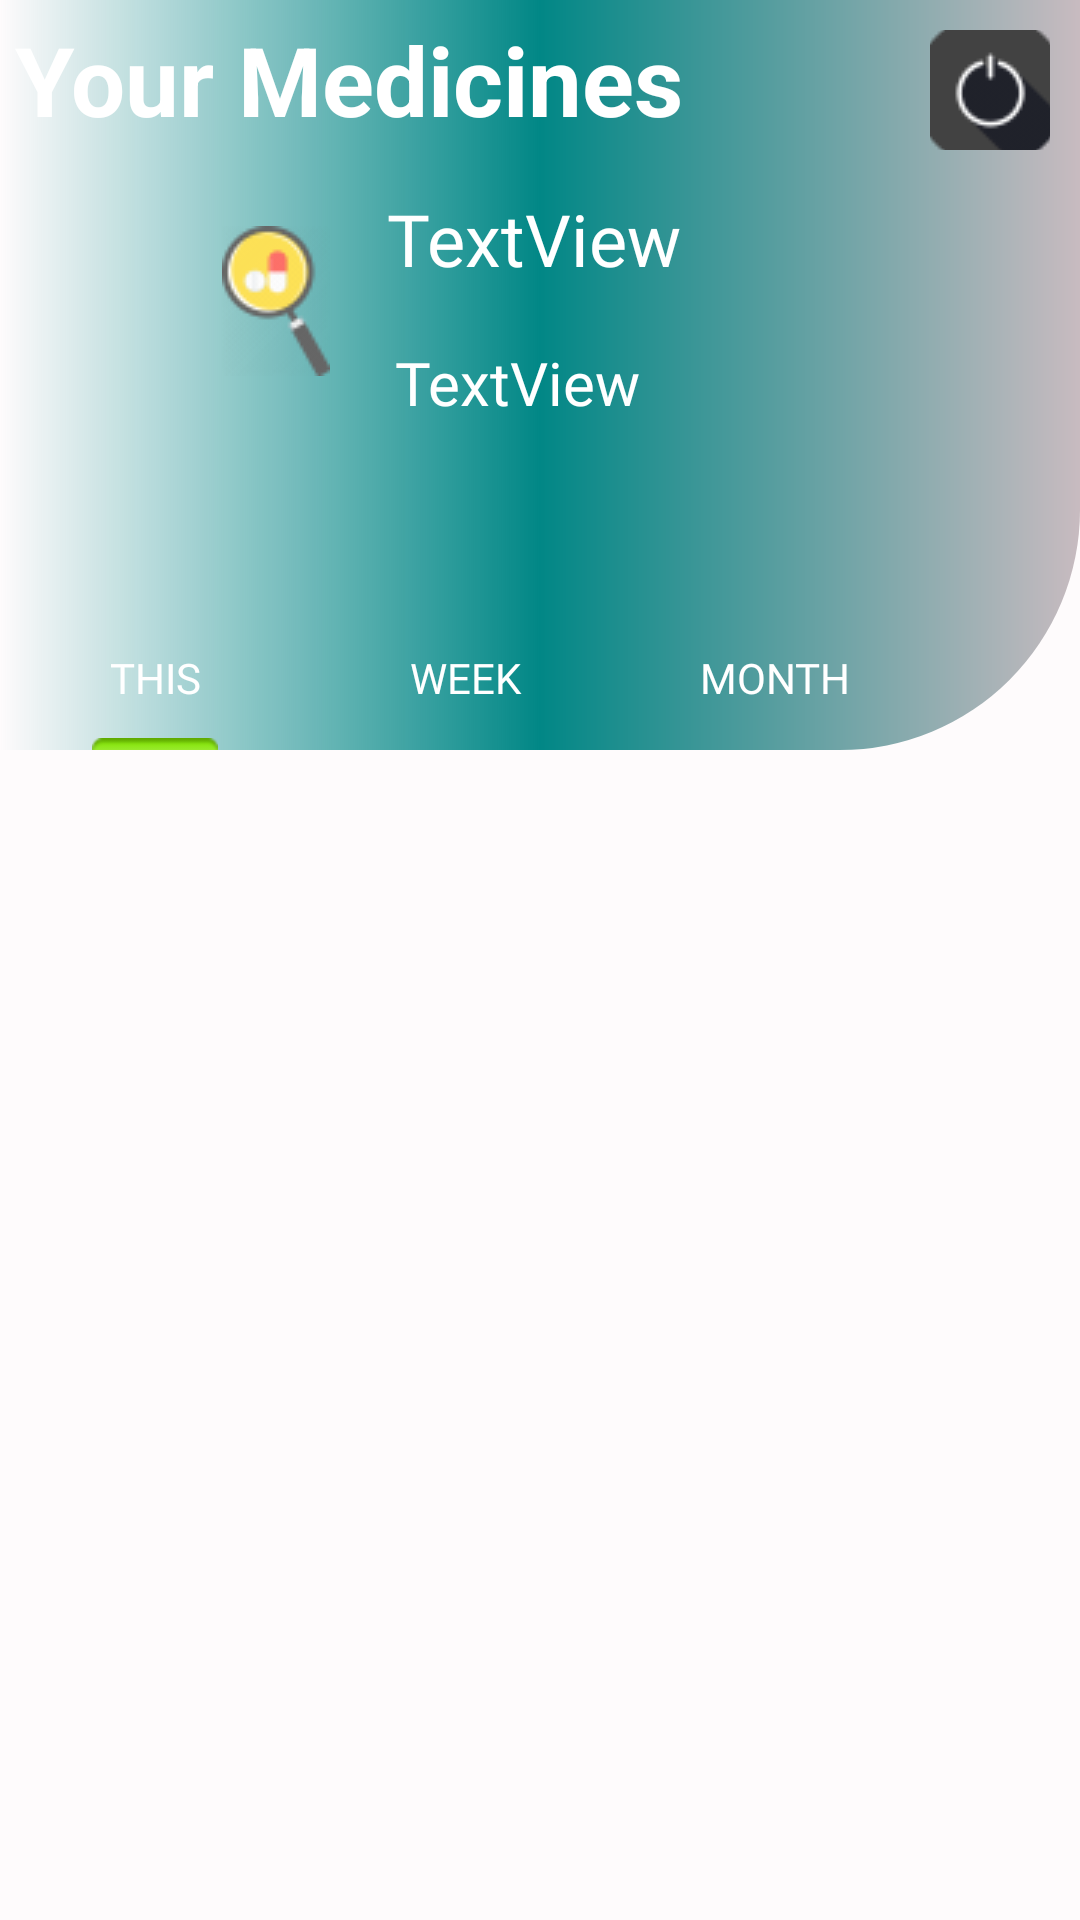

Icon click points for this 1080x1920 phone screenshot, format (x,y):
search: (276,301)
